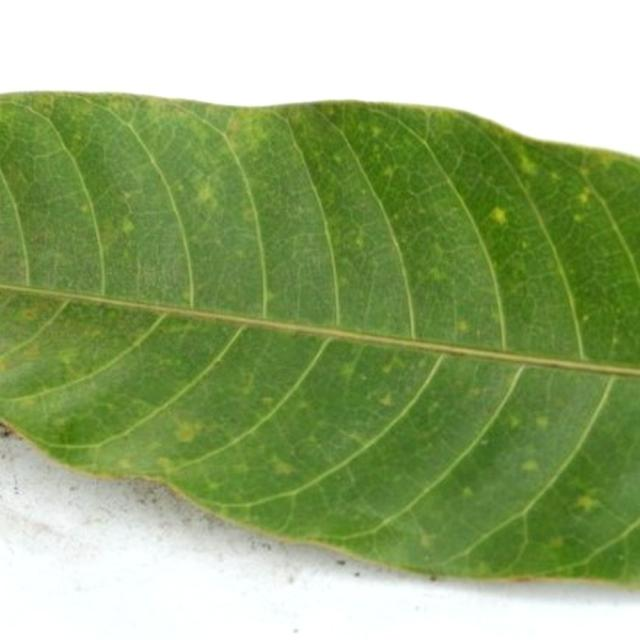Mango: (0, 93, 639, 582)
Powdery_Mildew: (52, 412, 96, 439), (488, 200, 519, 233), (174, 422, 201, 443), (194, 182, 216, 206), (517, 152, 538, 176), (64, 361, 89, 381), (575, 494, 599, 512), (272, 459, 296, 476), (13, 393, 41, 407), (18, 342, 41, 359), (156, 456, 178, 473), (18, 307, 40, 322), (237, 370, 254, 389), (58, 347, 79, 362), (345, 431, 367, 445), (427, 266, 446, 282), (419, 532, 435, 548), (120, 217, 135, 234), (339, 362, 356, 377), (521, 459, 539, 473), (378, 391, 394, 406), (232, 462, 250, 475), (455, 319, 471, 333), (115, 458, 133, 470), (535, 415, 550, 429), (548, 535, 564, 548), (475, 561, 491, 574), (576, 191, 590, 205), (354, 232, 366, 248), (381, 166, 395, 179), (508, 415, 522, 428), (242, 209, 255, 222), (381, 362, 394, 375), (461, 486, 474, 498), (264, 290, 276, 303), (122, 190, 136, 201), (370, 125, 382, 137), (262, 396, 276, 406), (182, 290, 194, 301), (337, 275, 348, 287), (207, 480, 220, 490), (79, 203, 90, 214), (333, 153, 344, 164), (573, 213, 584, 223), (549, 171, 560, 181), (492, 313, 502, 324), (612, 336, 620, 345), (336, 559, 346, 566), (428, 575, 437, 582), (582, 314, 589, 322)
